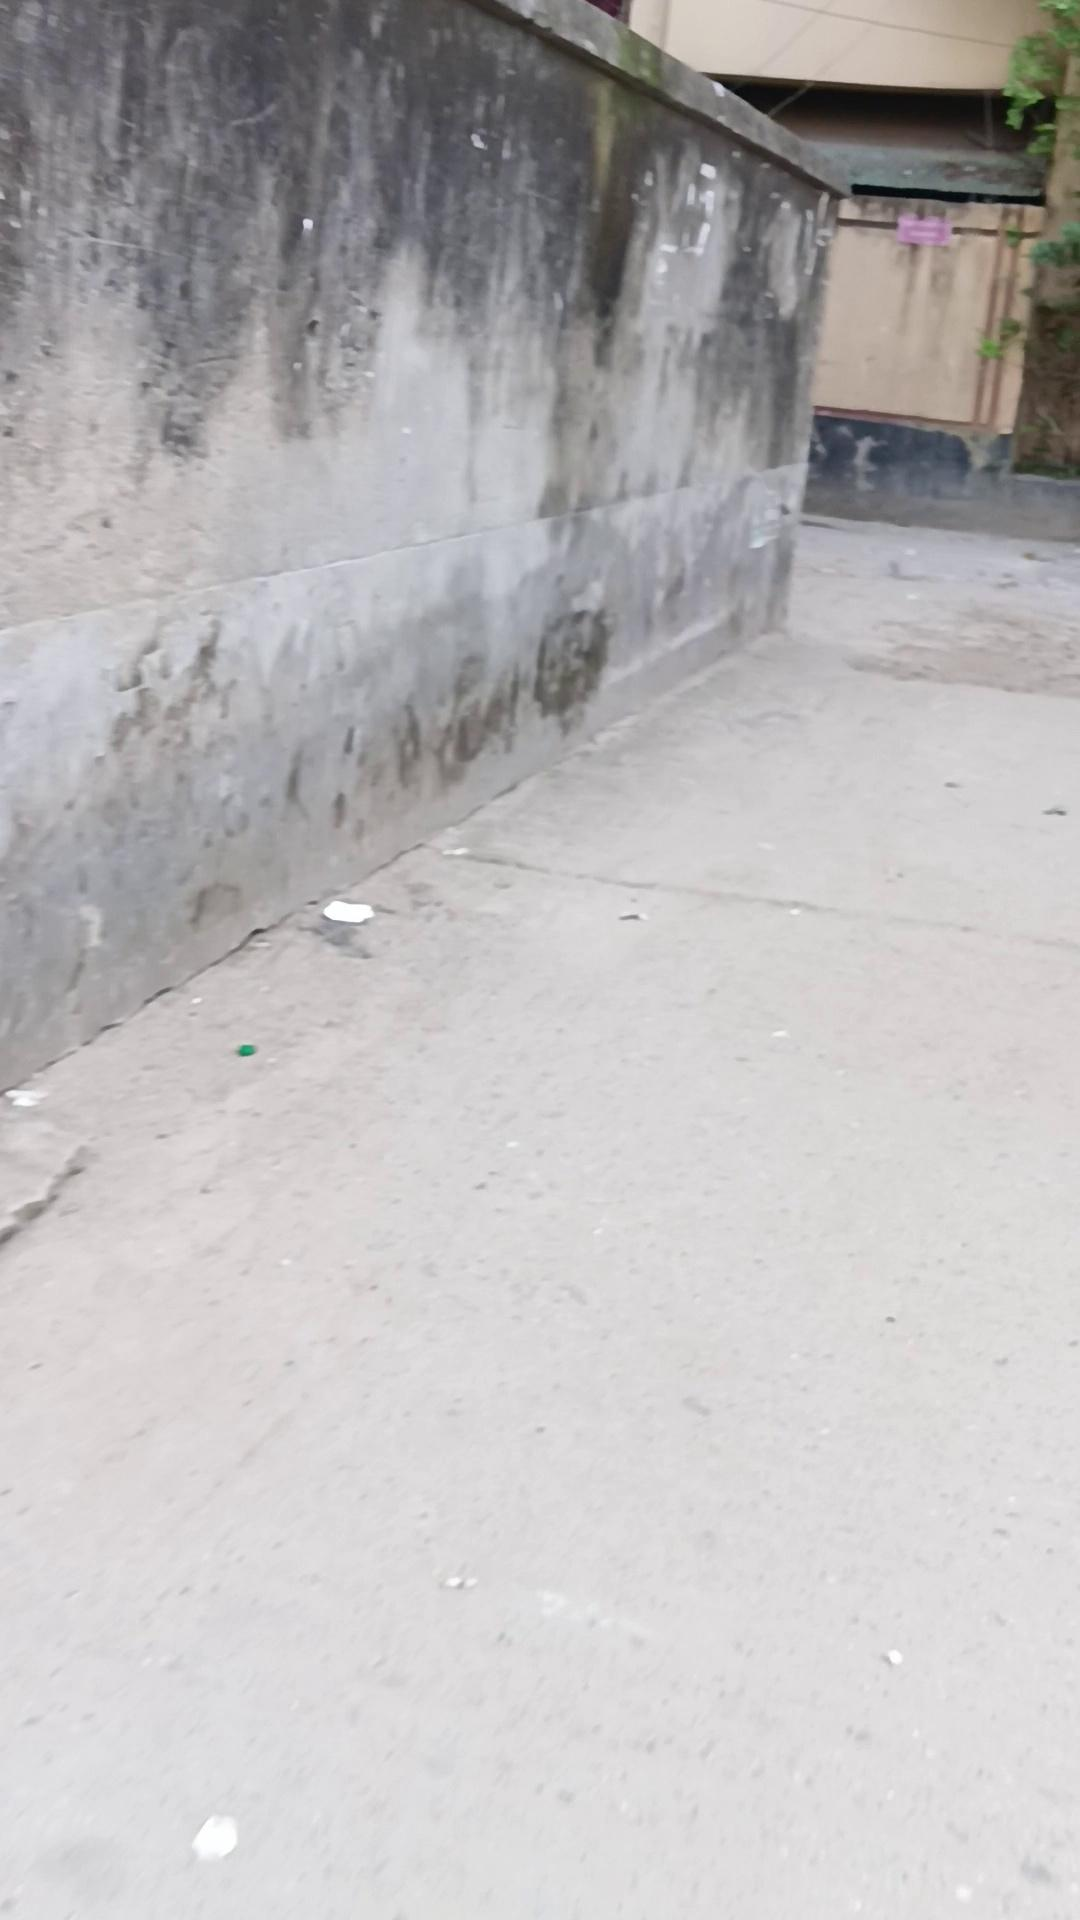Potted-plant: (3, 506, 1077, 1915)
Tree: (0, 0, 831, 1195)
